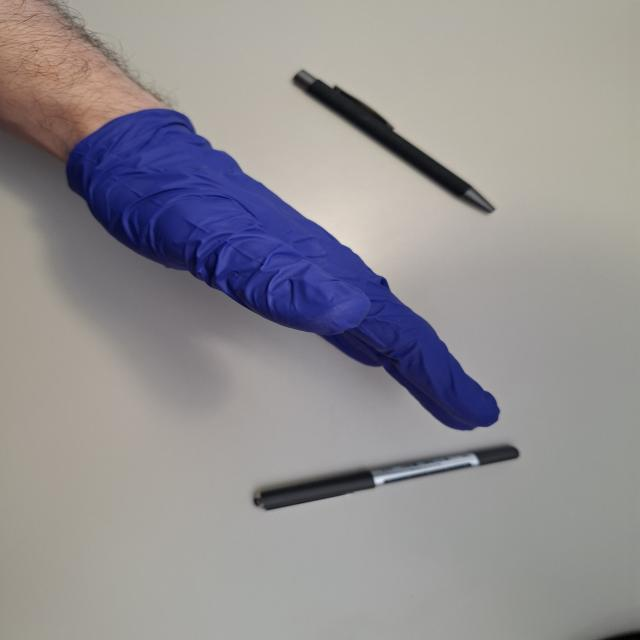glove_on: (64, 104, 506, 435)
